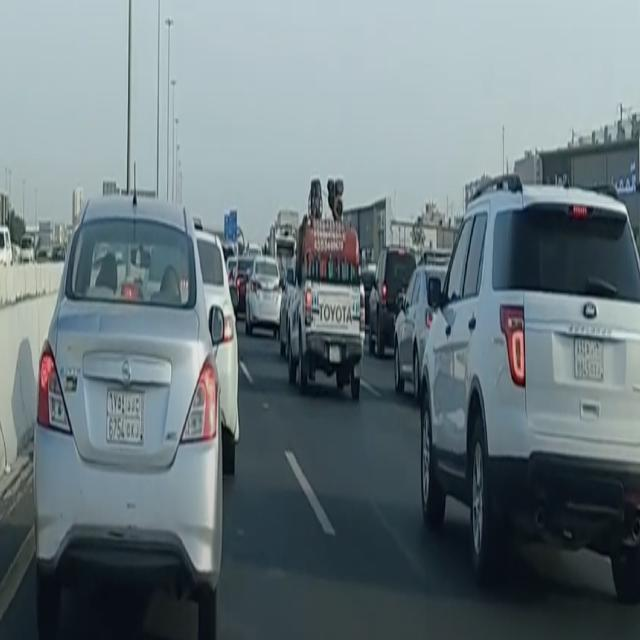license_plate: (106, 385, 146, 450), (572, 332, 606, 389), (329, 344, 342, 364), (263, 290, 271, 302)
